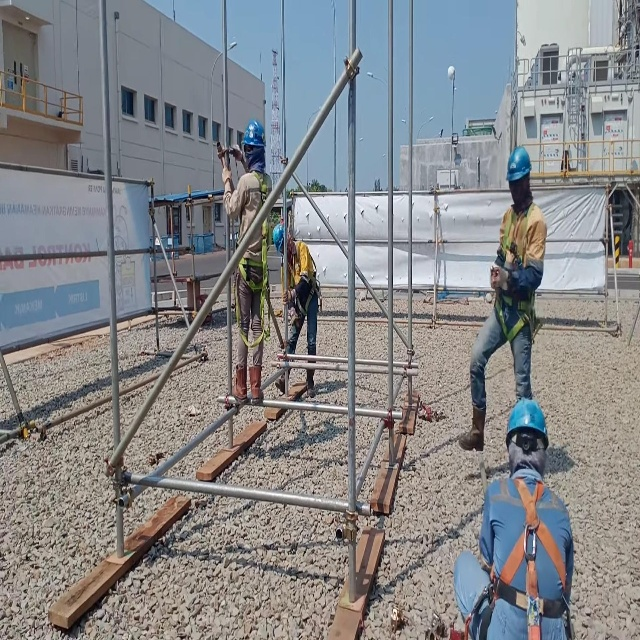Arnes_seguridad: (464, 475, 571, 640), (233, 167, 273, 347), (494, 200, 538, 341), (289, 240, 320, 314)
